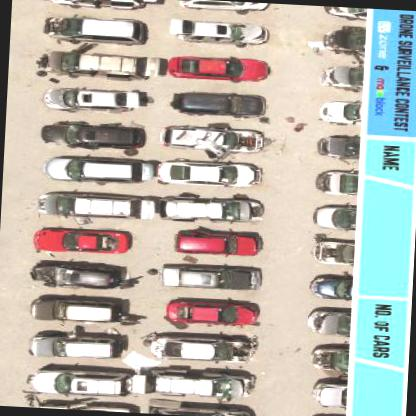car: (40, 50, 159, 81), (32, 192, 140, 223), (142, 332, 238, 366), (39, 84, 140, 116), (154, 158, 260, 188), (166, 53, 268, 84), (22, 368, 130, 396), (158, 124, 265, 152), (166, 192, 254, 226), (162, 297, 259, 327), (39, 122, 142, 150), (166, 20, 268, 48), (146, 368, 248, 396), (170, 90, 265, 120), (30, 228, 130, 256), (46, 16, 148, 43), (173, 229, 262, 259), (40, 156, 134, 184), (30, 296, 121, 324), (29, 262, 124, 288), (165, 262, 253, 290), (29, 334, 121, 358), (306, 306, 350, 338), (43, 0, 156, 11), (313, 168, 357, 196), (322, 25, 364, 54), (308, 274, 349, 302), (311, 206, 353, 233), (322, 63, 362, 90), (314, 136, 359, 160), (318, 100, 360, 124), (311, 381, 346, 408), (310, 346, 346, 372), (310, 242, 352, 264), (318, 6, 368, 18)
